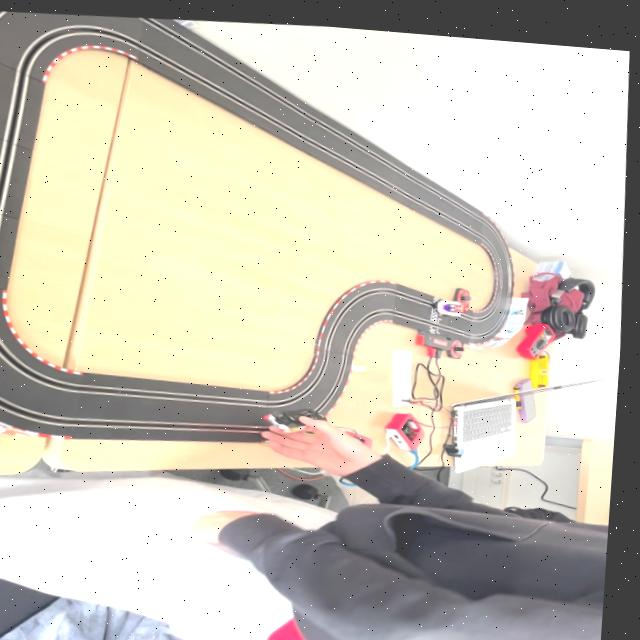mario: (436, 291, 476, 310)
